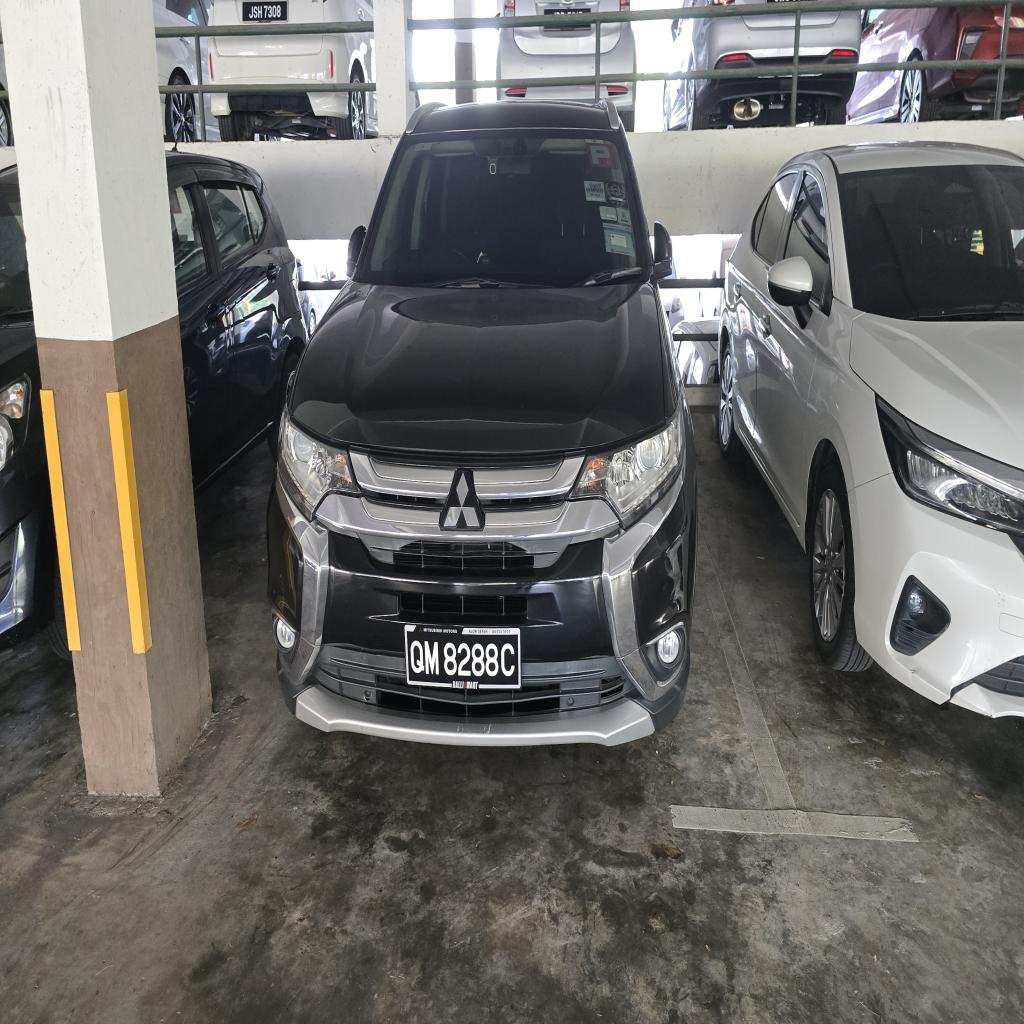car: (269, 102, 695, 745)
car plate: (405, 624, 520, 689)
